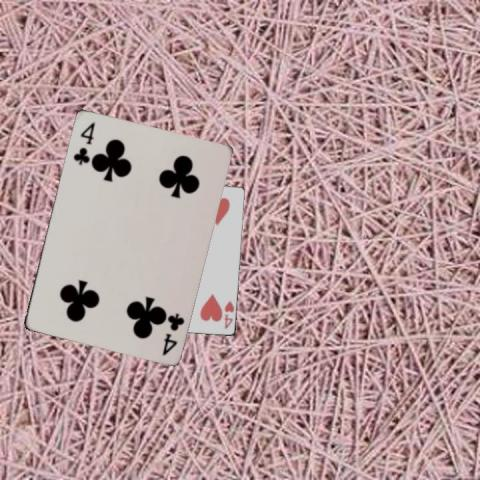4c: (70, 119, 96, 166), (159, 310, 185, 357)
4h: (220, 298, 234, 330)
